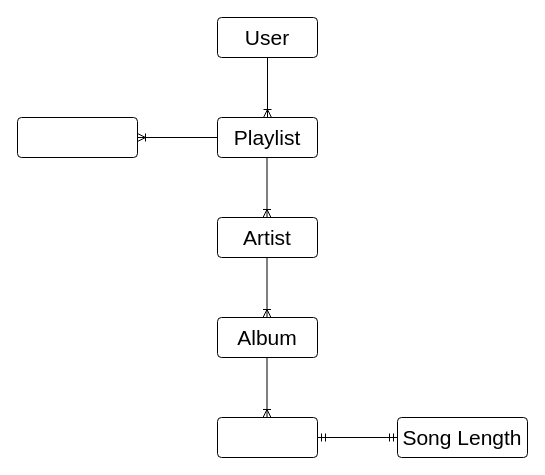
Image size: 545x475. Some labels were removed from this diagram. The box of each missing label's shape, as (x1, y1, x2, y2) in pixels:
Date Added: (16, 116, 138, 158)
Song: (216, 416, 318, 458)
